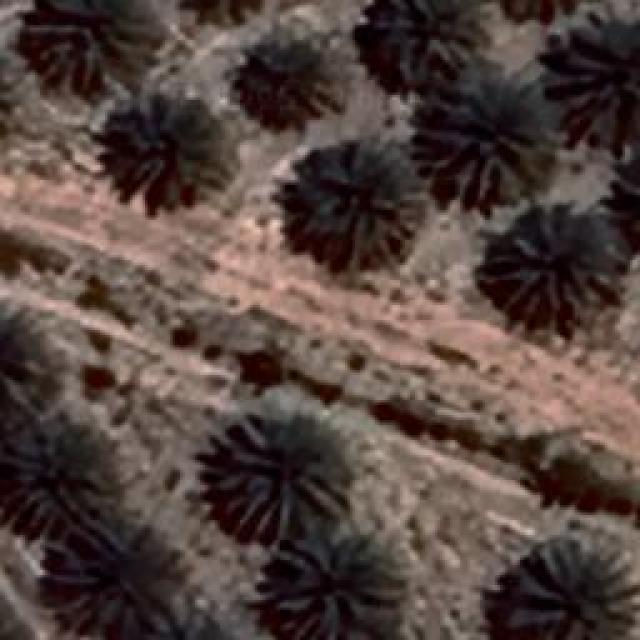PalmTree: (282, 140, 428, 268), (205, 418, 345, 540), (22, 103, 88, 359), (482, 208, 620, 328), (420, 78, 545, 200), (270, 528, 400, 638), (118, 92, 232, 210), (49, 514, 162, 628), (538, 4, 638, 128), (20, 0, 155, 88), (2, 420, 108, 530), (510, 547, 632, 635), (370, 0, 485, 80), (133, 597, 250, 640), (0, 34, 27, 162), (88, 85, 276, 103), (617, 136, 640, 256), (168, 0, 272, 24), (478, 0, 606, 19), (623, 134, 640, 260), (0, 34, 16, 156), (628, 140, 640, 258), (0, 35, 12, 152)
